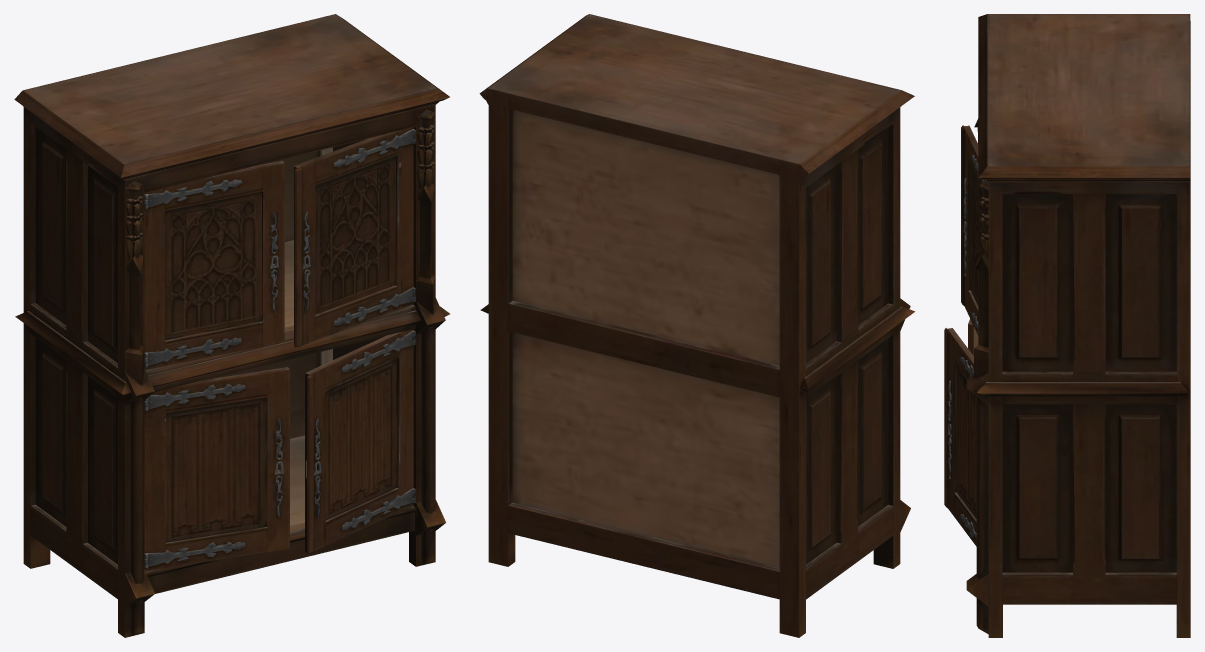
The model's file is GothicCabinet_01.glb.
3 renders of one model, left to right at view 1: azimuth 30°, elevation 25°; view 2: azimuth 150°, elevation 25°; view 3: azimuth 270°, elevation 25°, orthographic.
Parts seen in each view (by area): view 1: GothicCabinet_01_cabinet; view 2: GothicCabinet_01_cabinet; view 3: GothicCabinet_01_cabinet.
Part boxes in pixels (x1,y1,x2,y2): GothicCabinet_01_cabinet: (14, 14, 449, 637); GothicCabinet_01_cabinet: (479, 14, 914, 637); GothicCabinet_01_cabinet: (944, 14, 1190, 637).
Bounding box in the file's own units: 1.72 × 2.36 × 1.12.
1 material, 1 textured.
